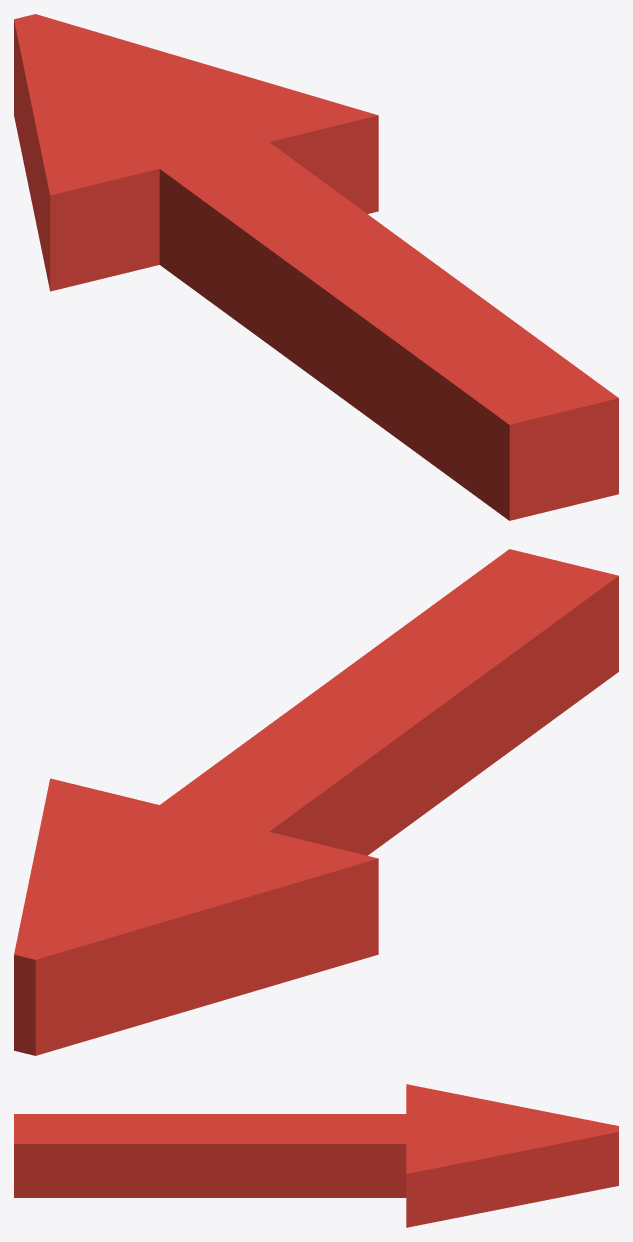
File: ARROW.fbx
The picture shows the model from 3 angles, top to bottom: view 1: azimuth 30°, elevation 25°; view 2: azimuth 150°, elevation 25°; view 3: azimuth 270°, elevation 25°; orthographic projection. The views are drawn at different scales.
Parts seen in each view (by area): view 1: Plane; view 2: Plane; view 3: Plane.
Boxes of the visible parts, left/top/right/bottom form: Plane: left=14, top=14, right=618, bottom=520; Plane: left=14, top=549, right=618, bottom=1055; Plane: left=14, top=1084, right=618, bottom=1227.
Bounding box in the file's own units: 200 × 55.9 × 569.
